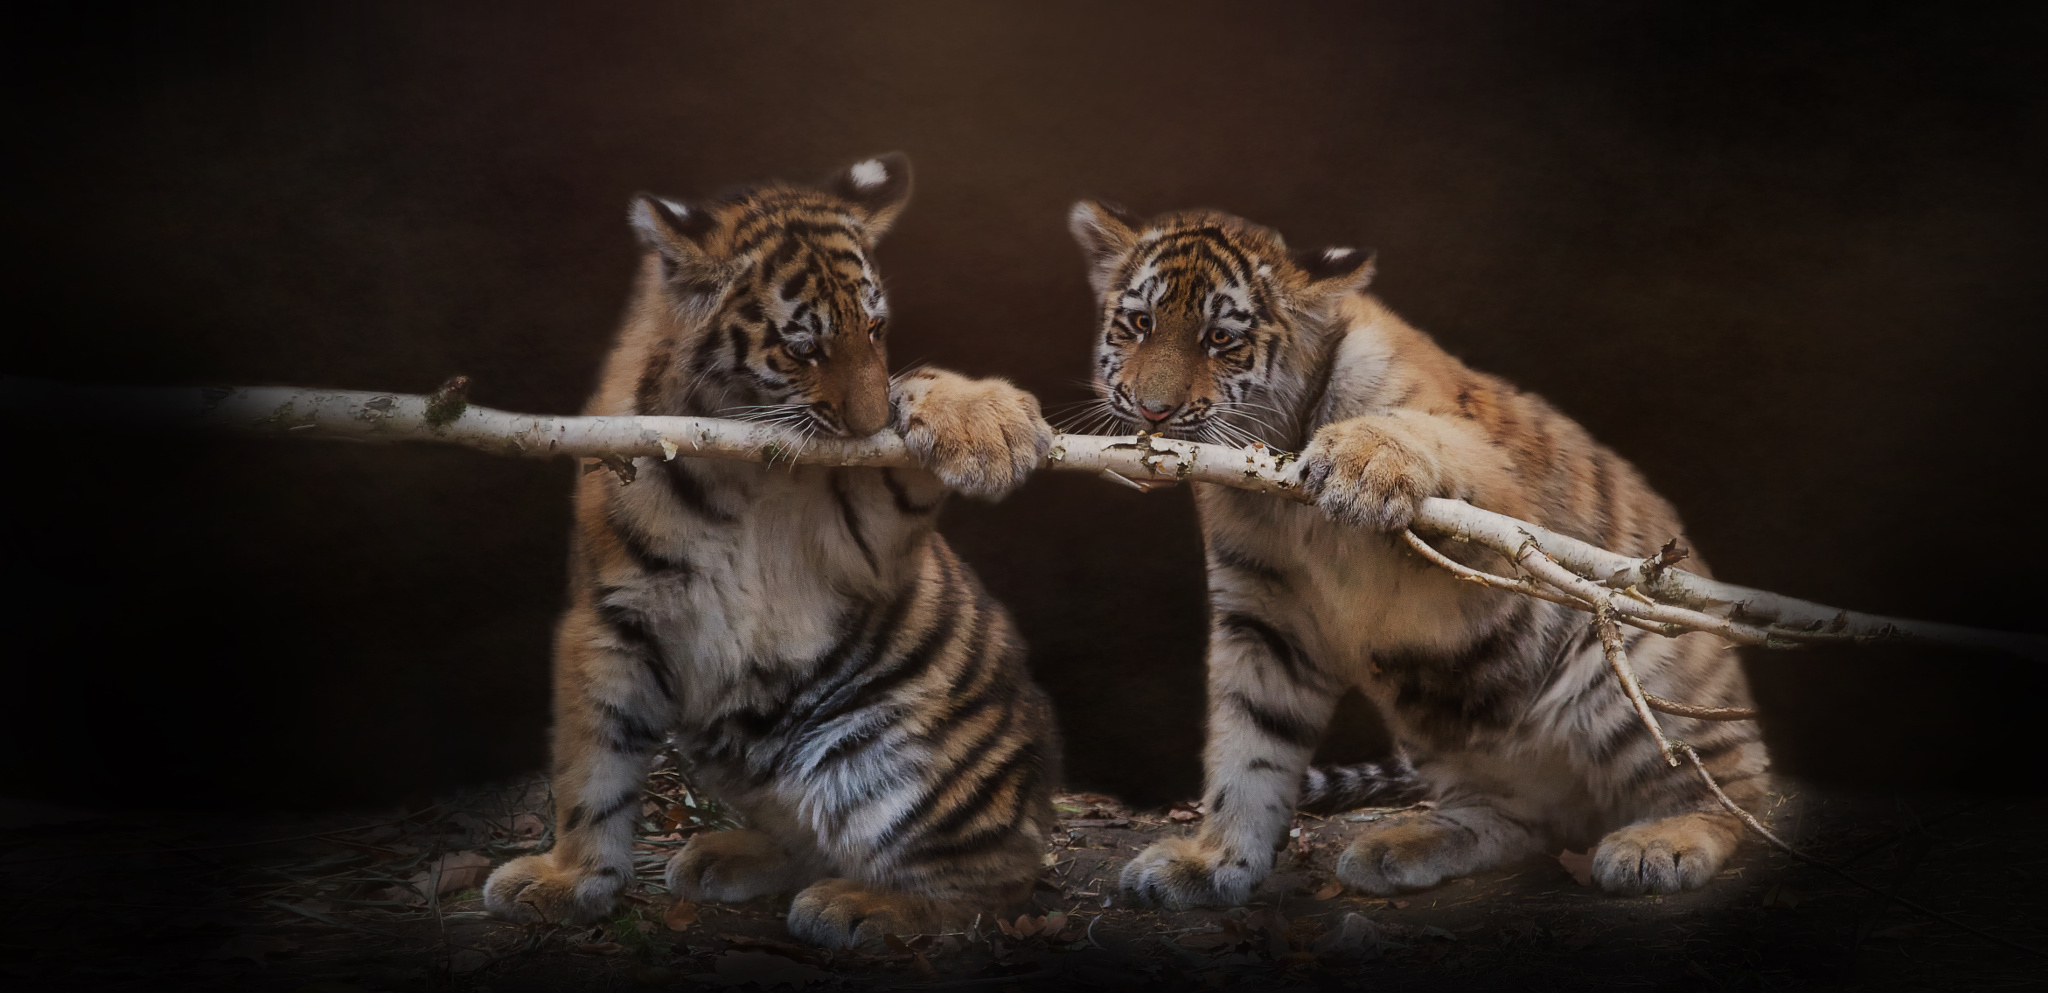tiger: (1038, 167, 1917, 915), (546, 128, 1076, 875)
